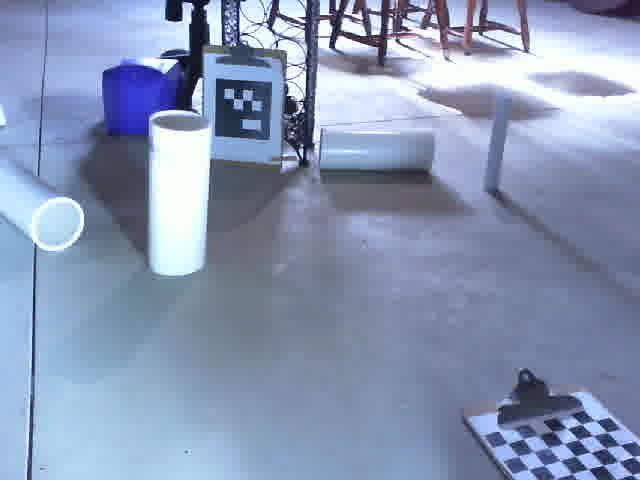coral: (146, 108, 214, 279), (0, 154, 89, 254), (314, 123, 441, 177)
